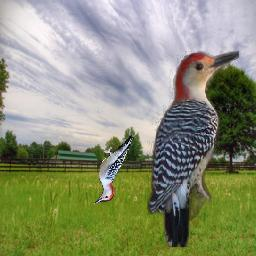Woodpecker: (147, 51, 239, 247), (94, 136, 135, 205)
